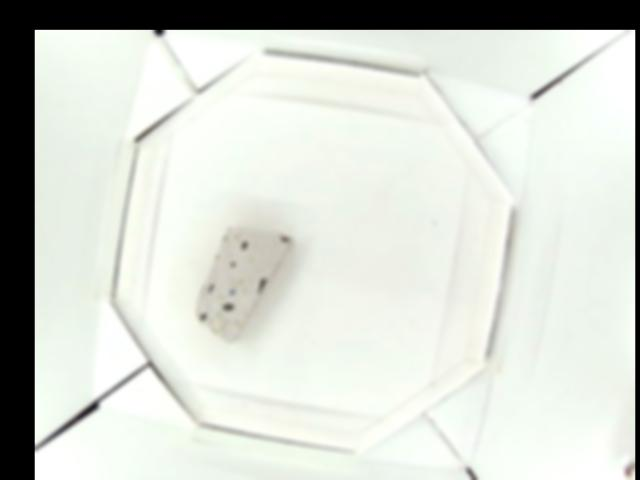China: (196, 225, 293, 341)
